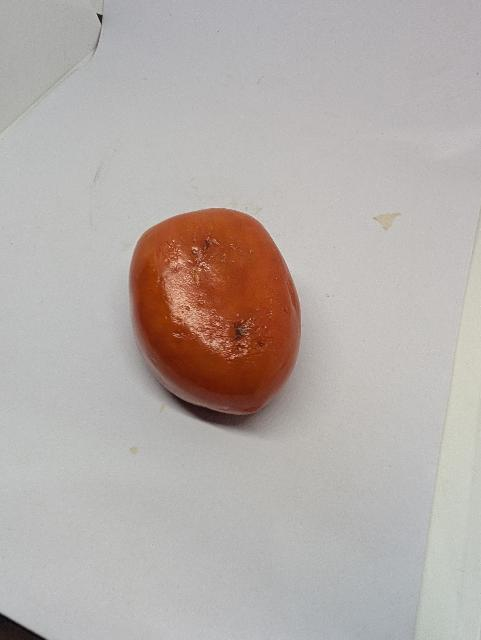defect: (127, 202, 307, 421)
